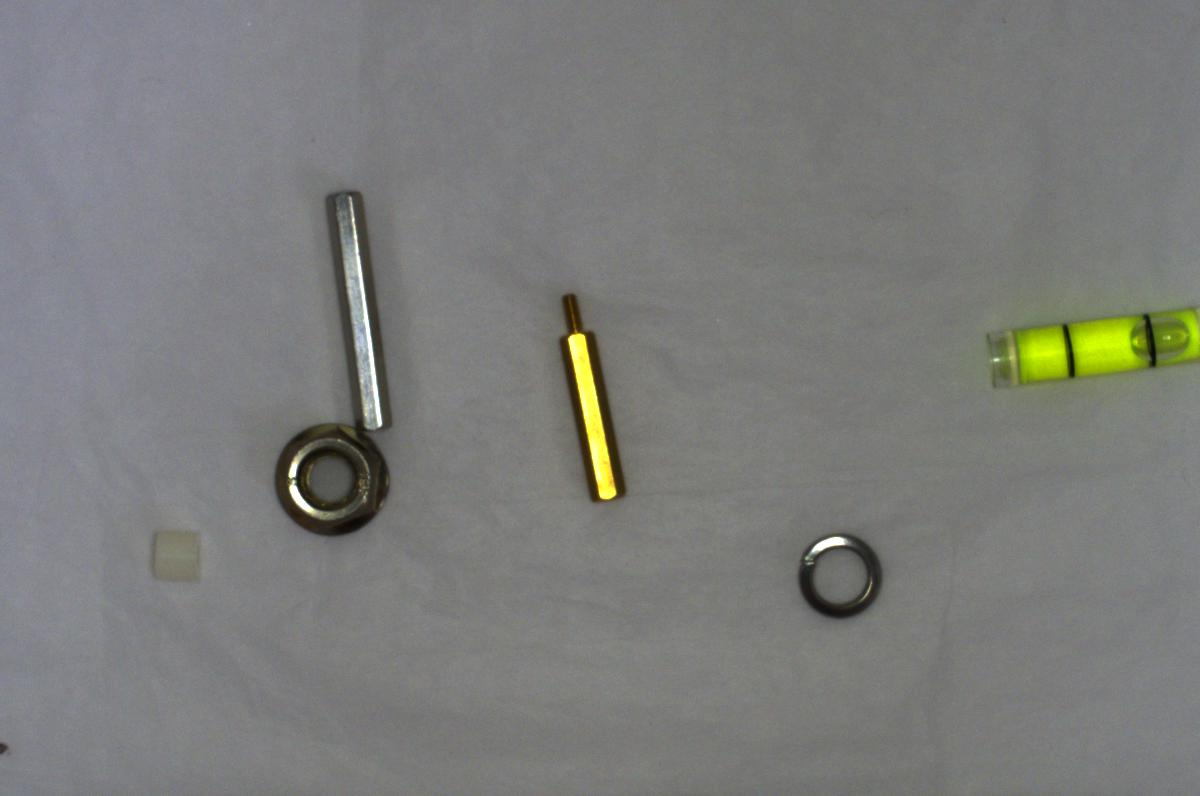Double hexagonal column: (312, 182, 401, 434)
Flange nut: (268, 414, 399, 540)
Hexagon pillar: (548, 281, 637, 506)
Horizontal bubble: (977, 296, 1199, 394)
Plastic cushion pillar: (140, 518, 217, 599)
Spring washer: (785, 528, 892, 622)
